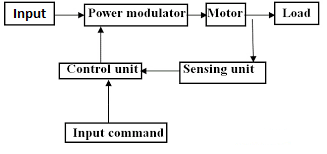arrow: (104, 80, 113, 124), (249, 18, 258, 62), (141, 67, 181, 76), (97, 26, 104, 63), (53, 11, 85, 19), (244, 11, 276, 19), (186, 12, 206, 18)
process: (83, 3, 190, 27), (63, 120, 169, 144), (178, 60, 269, 86), (57, 61, 145, 81), (3, 1, 57, 27), (204, 1, 248, 28), (273, 1, 320, 26)
text: (72, 127, 165, 140), (87, 7, 186, 18), (182, 64, 257, 76), (67, 64, 139, 74), (12, 7, 48, 22), (207, 7, 243, 19), (282, 6, 312, 18)
